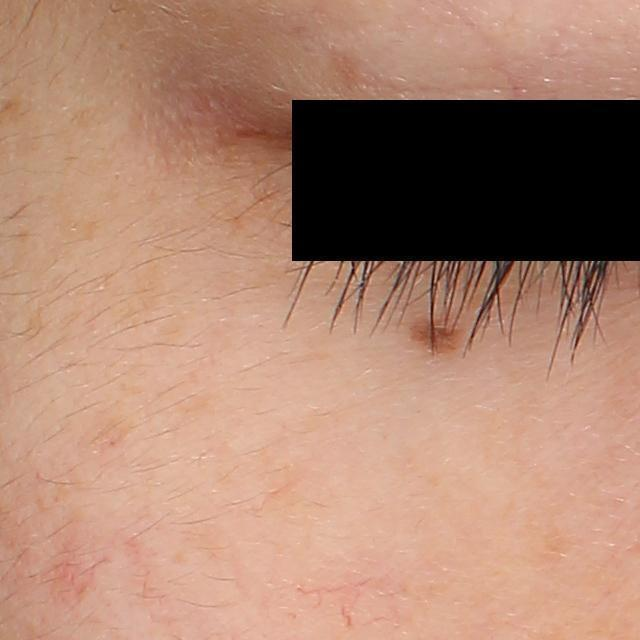nevus: (411, 314, 462, 349)
